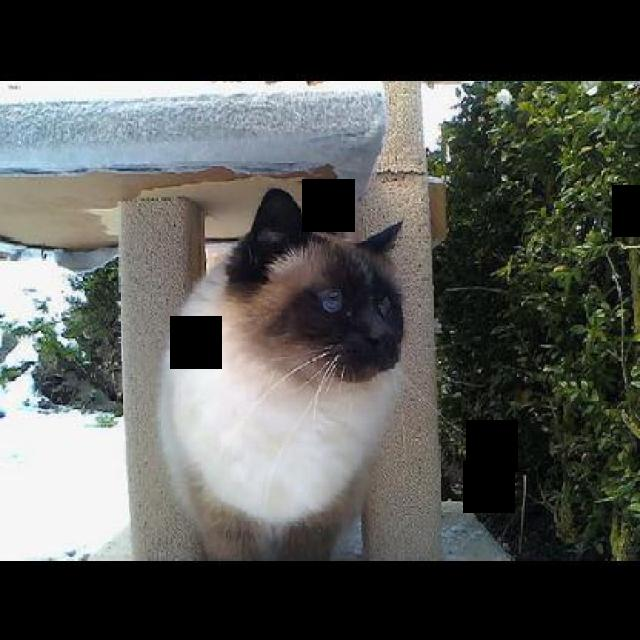unauthorized: (154, 186, 406, 560)
